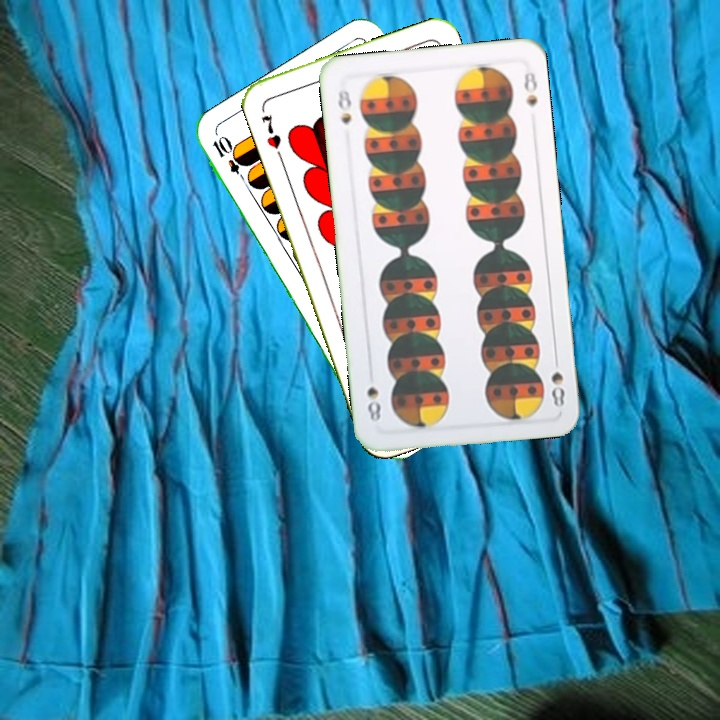E10: (208, 132, 251, 187)
H7: (257, 110, 284, 152)
S8: (547, 351, 568, 410), (334, 86, 354, 128)
